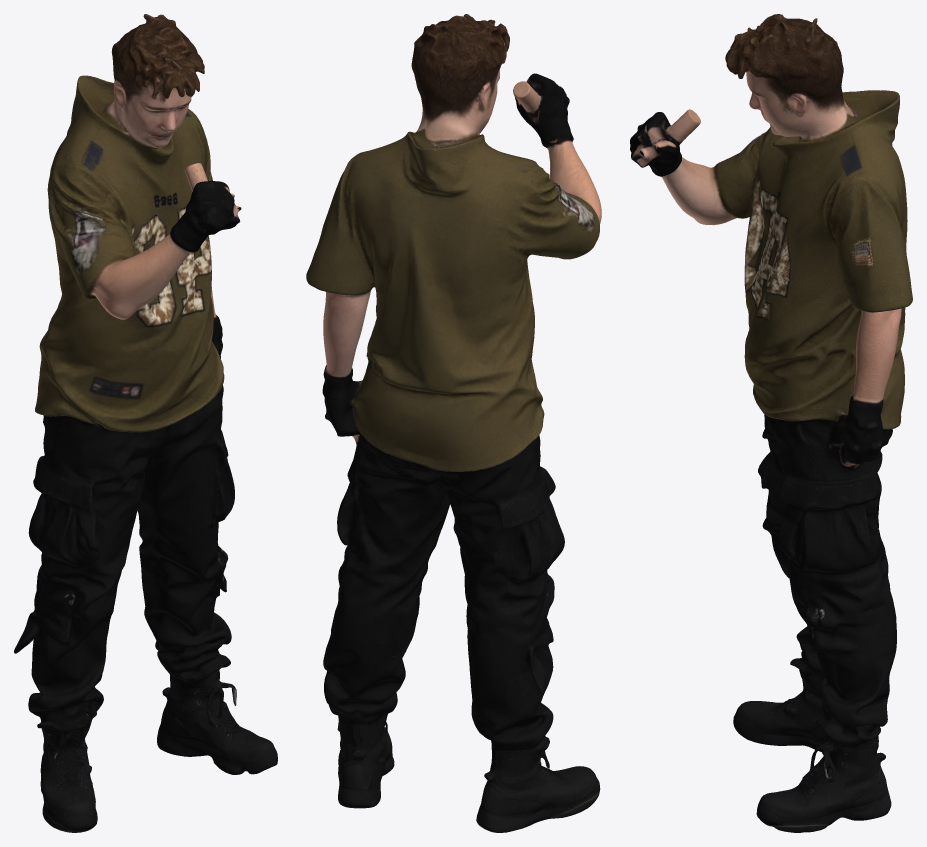
Rendered from Meshy_AI_Urban_Recon_Selfie_20261026_texture.fbx.
The picture shows the model from 3 angles, left to right: view 1: azimuth 30°, elevation 25°; view 2: azimuth 150°, elevation 25°; view 3: azimuth 270°, elevation 25°; orthographic projection.
Parts seen in each view (by area): view 1: Mesh_0; view 2: Mesh_0; view 3: Mesh_0.
Boxes of the visible parts, x1,y1,x2,y2 form: Mesh_0: (14, 14, 277, 832); Mesh_0: (306, 14, 601, 832); Mesh_0: (630, 14, 912, 832).
Bounding box in the file's own units: 59.43 × 190 × 63.83.
Materials: 1 (1 with a texture image).
